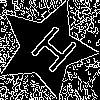H: (21, 23, 80, 82)
